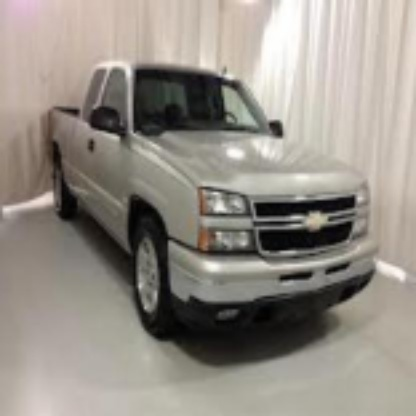Vehicle: (41, 55, 380, 352)
